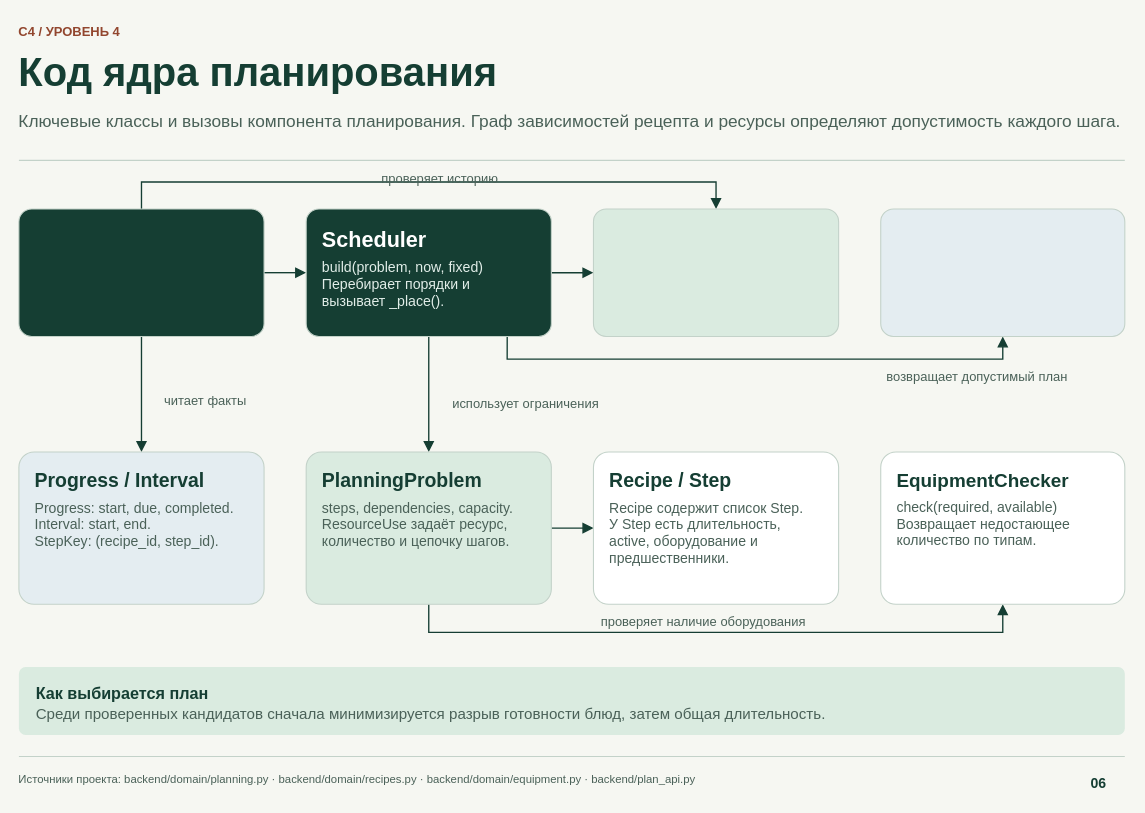
The diagram is 1145 pixels wide and 813 high, and some of its shapes have lost their labels. The shapes that lost their labels are listed below. From the top down, each one's centre as x and y in pixels, then its label:
the point at 141,272: Recalculator recalc(problem, progress, now) Фиксирует фактические интервалы.
the point at 715,272: PlanValidator check() проверяет план. check_history() — факты.
the point at 1002,272: Plan intervals: StepKey → Interval startable: доступные шаги
